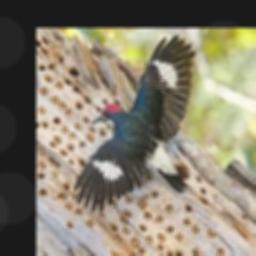Woodpecker: (74, 35, 195, 212)
